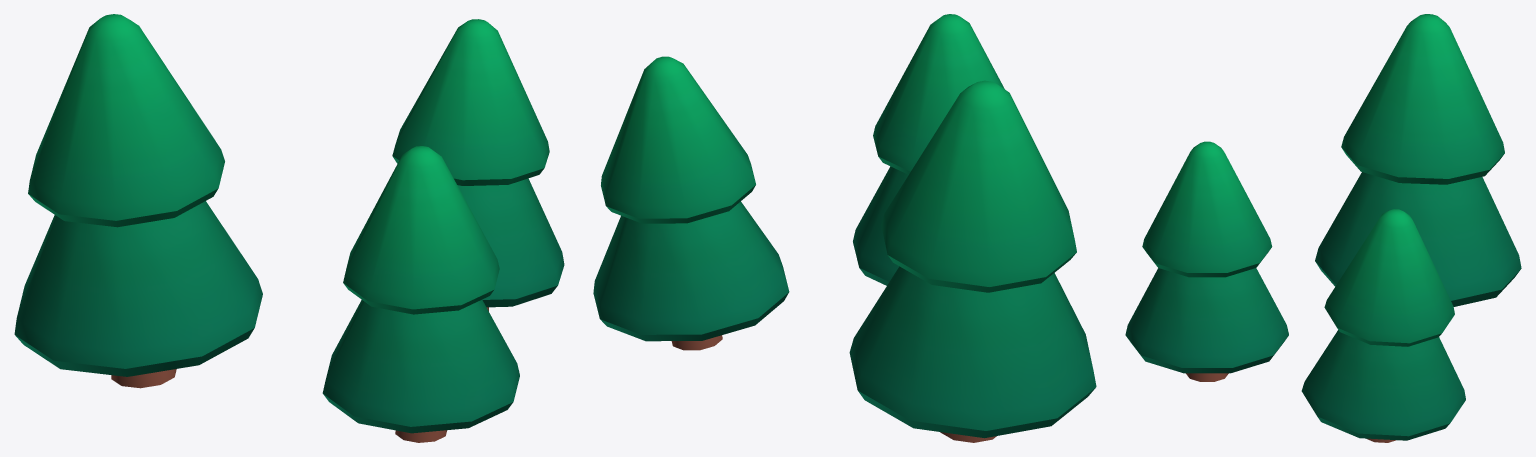
The model's file is d_kaykit_sapins_petit.glb.
3 views of the same model, side by side, from view 1: azimuth 30°, elevation 25°; view 2: azimuth 150°, elevation 25°; view 3: azimuth 270°, elevation 25° (orthographic). The views are drawn at different scales.
Visible parts, largest first — view 1: d_kaykit_sapins_petit; view 2: d_kaykit_sapins_petit; view 3: d_kaykit_sapins_petit.
Part boxes in pixels (x1,y1,x2,y2): d_kaykit_sapins_petit: (14, 14, 564, 442); d_kaykit_sapins_petit: (593, 14, 1096, 442); d_kaykit_sapins_petit: (1125, 14, 1521, 442).
Size of the model in its own units: 1.33 by 0.9218 by 1.14.
1 material, 1 textured.
